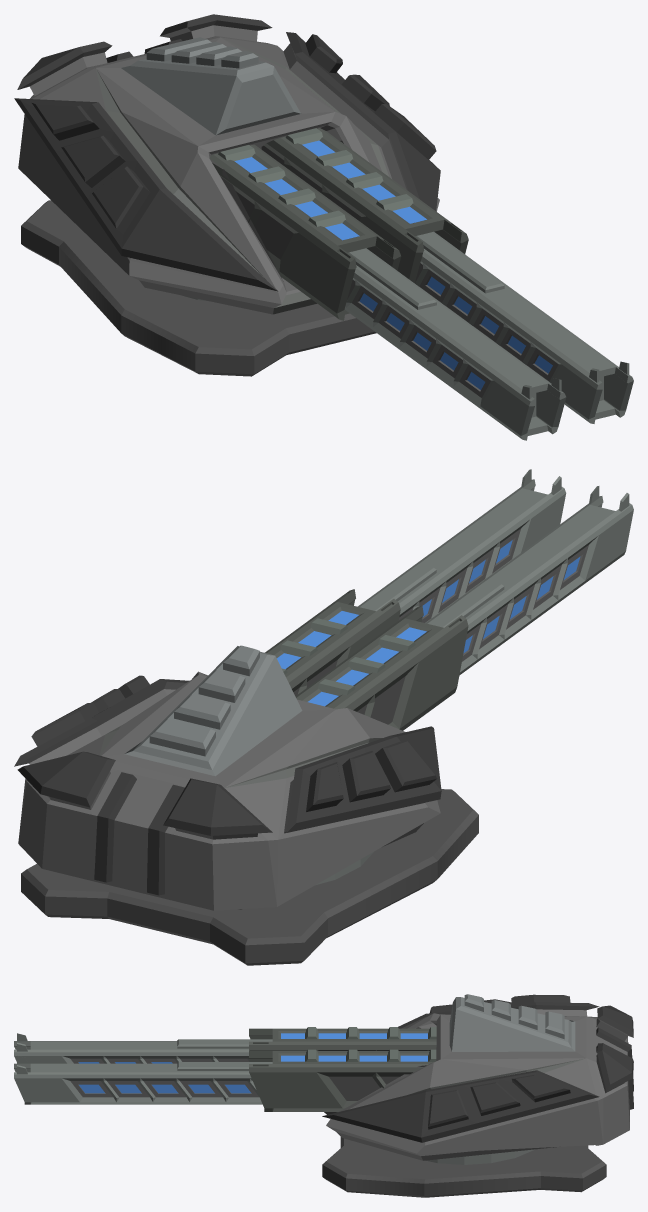
Rendered from model_polyfleet_battleship_railgun8.fbx.
The picture shows the model from 3 angles, top to bottom: view 1: azimuth 30°, elevation 25°; view 2: azimuth 150°, elevation 25°; view 3: azimuth 270°, elevation 25°; orthographic projection. The views are drawn at different scales.
Visible parts, largest first — view 1: model_weapon_rotate, model_railgun_barrel_front (×2), model_polyfleet_battleship_railgun8, model_railgun_barrel_left, model_railgun_barrel_right, emissive (×4); view 2: model_weapon_rotate, model_polyfleet_battleship_railgun8, model_railgun_barrel_front (×2), model_railgun_barrel_left, model_railgun_barrel_right, emissive (×3); view 3: model_weapon_rotate, model_railgun_barrel_front (×2), model_polyfleet_battleship_railgun8, model_railgun_barrel_right, model_railgun_barrel_left, emissive (×3).
Boxes of the visible parts, box(x1,y1,x2,y2) form: model_weapon_rotate: box(14, 14, 440, 314); model_railgun_barrel_front (×2): box(344, 231, 633, 440); model_polyfleet_battleship_railgun8: box(21, 200, 376, 376); model_railgun_barrel_left: box(209, 144, 401, 320); model_railgun_barrel_right: box(261, 128, 468, 282); emissive (×4): box(234, 140, 552, 389); model_weapon_rotate: box(14, 645, 441, 910); model_polyfleet_battleship_railgun8: box(21, 789, 478, 965); model_railgun_barrel_front (×2): box(358, 469, 633, 675); model_railgun_barrel_left: box(295, 605, 468, 730); model_railgun_barrel_right: box(265, 589, 400, 695); emissive (×3): box(277, 556, 580, 706); model_weapon_rotate: box(322, 994, 633, 1164); model_railgun_barrel_front (×2): box(14, 1033, 272, 1104); model_polyfleet_battleship_railgun8: box(322, 1112, 606, 1197); model_railgun_barrel_right: box(249, 1049, 436, 1111); model_railgun_barrel_left: box(249, 1027, 436, 1050); emissive (×3): box(79, 1033, 427, 1093).
Size of the model in its own units: 258 by 170 by 636.
